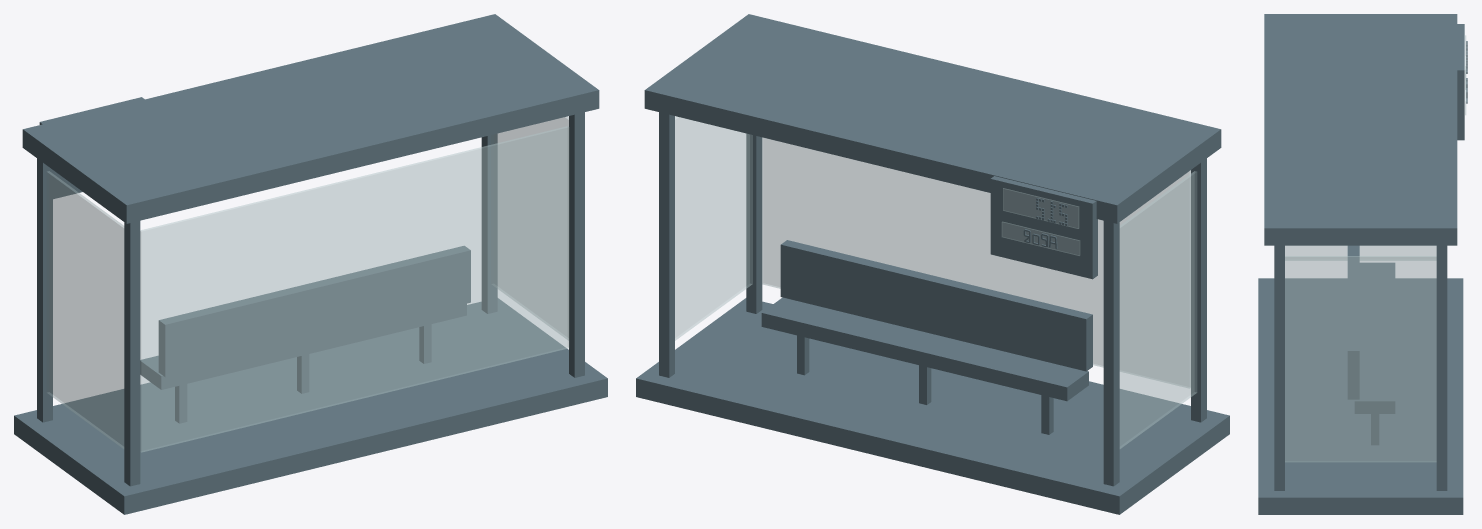
File: bus_stop_modern_glass_metal.glb
3 views of the same model, side by side, from view 1: azimuth 30°, elevation 25°; view 2: azimuth 150°, elevation 25°; view 3: azimuth 270°, elevation 25° (orthographic). The views are drawn at different scales.
Visible parts, largest first — view 1: rear_glass, roof_canopy, base_slab, bench_back, side_glass_left, side_glass_right, post_left_rear, bench_seat, post_right_rear, post_left_front, post_right_front, route_sign_board; view 2: roof_canopy, base_slab, rear_glass, bench_back, side_glass_left, side_glass_right, bench_seat, route_sign_board, post_left_front, post_right_front, post_left_rear, post_right_rear (+2 smaller); view 3: roof_canopy, base_slab, side_glass_right, bench_seat, post_right_front, post_right_rear, side_glass_left, bench_back, route_sign_board, bench_leg_2.
Boxes of the visible parts, x1=… form: rear_glass: x1=140, y1=126, x2=569, y2=452; roof_canopy: x1=22, y1=14, x2=599, y2=223; base_slab: x1=14, y1=298, x2=607, y2=514; bench_back: x1=158, y1=246, x2=470, y2=376; side_glass_left: x1=47, y1=171, x2=124, y2=448; side_glass_right: x1=491, y1=116, x2=568, y2=340; post_left_rear: x1=124, y1=221, x2=140, y2=486; bench_seat: x1=140, y1=303, x2=466, y2=389; post_right_rear: x1=569, y1=112, x2=584, y2=377; post_left_front: x1=37, y1=158, x2=52, y2=422; post_right_front: x1=481, y1=134, x2=497, y2=313; route_sign_board: x1=39, y1=97, x2=144, y2=198; roof_canopy: x1=644, y1=14, x2=1221, y2=223; base_slab: x1=636, y1=298, x2=1229, y2=514; rear_glass: x1=762, y1=137, x2=1190, y2=388; bench_back: x1=780, y1=240, x2=1092, y2=371; side_glass_left: x1=1119, y1=171, x2=1196, y2=448; side_glass_right: x1=675, y1=116, x2=752, y2=340; bench_seat: x1=761, y1=297, x2=1088, y2=401; route_sign_board: x1=990, y1=176, x2=1097, y2=279; post_left_front: x1=1103, y1=221, x2=1119, y2=486; post_right_front: x1=659, y1=112, x2=674, y2=377; post_left_rear: x1=1191, y1=158, x2=1206, y2=422; post_right_rear: x1=746, y1=134, x2=762, y2=313; roof_canopy: x1=1264, y1=14, x2=1457, y2=245; base_slab: x1=1258, y1=278, x2=1463, y2=514; side_glass_right: x1=1285, y1=256, x2=1436, y2=462; bench_seat: x1=1354, y1=262, x2=1395, y2=413; post_right_front: x1=1436, y1=245, x2=1447, y2=490; post_right_rear: x1=1274, y1=245, x2=1284, y2=490; side_glass_left: x1=1285, y1=245, x2=1436, y2=260; bench_back: x1=1347, y1=245, x2=1359, y2=399; route_sign_board: x1=1457, y1=24, x2=1464, y2=140; bench_leg_2: x1=1371, y1=414, x2=1379, y2=445.
Size of the model in its own units: 4.35 by 2.63 by 1.76.
